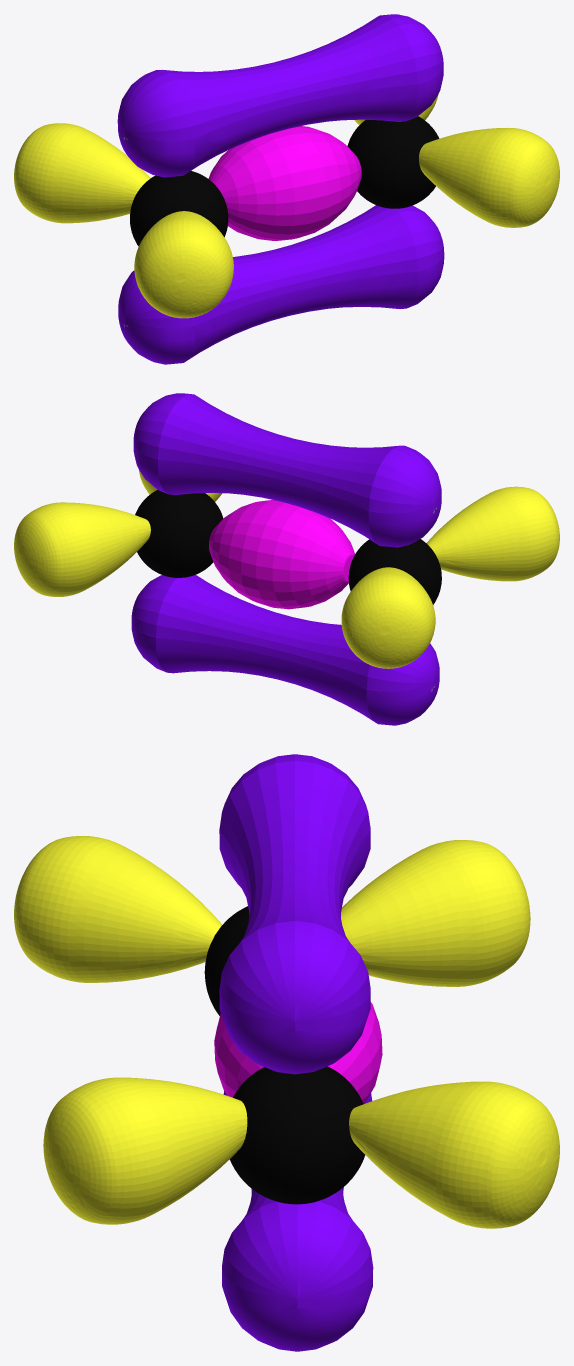
Rendered from 2Carbono_sp2+sp2.glb.
3 views of the same model, one above another, from view 1: azimuth 30°, elevation 25°; view 2: azimuth 150°, elevation 25°; view 3: azimuth 270°, elevation 25° (orthographic). The views are drawn at different scales.
Parts seen in each view (by area): view 1: root; view 2: root; view 3: root.
Boxes of the visible parts, <box> form: root: <box>14,14,559,364</box>; root: <box>14,393,559,725</box>; root: <box>14,754,559,1351</box>.
Bounding box in the file's own units: 1.65 × 1.05 × 1.23.
